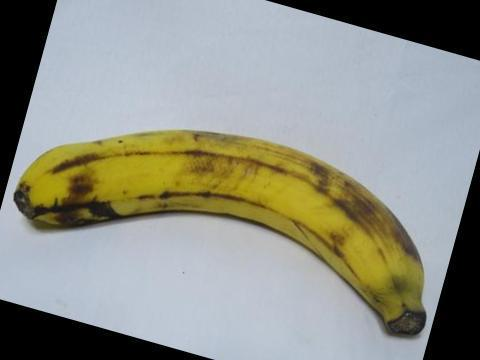overripe: (5, 123, 438, 345)
